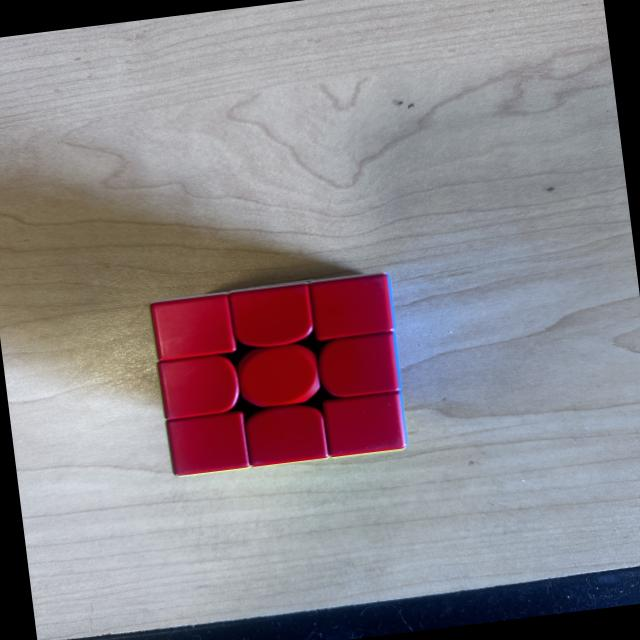sticker: (318, 388, 411, 462), (148, 290, 240, 364), (233, 339, 324, 412), (306, 271, 396, 344), (162, 407, 252, 480), (155, 350, 245, 422), (228, 281, 318, 353), (314, 330, 402, 402), (242, 398, 330, 469)
